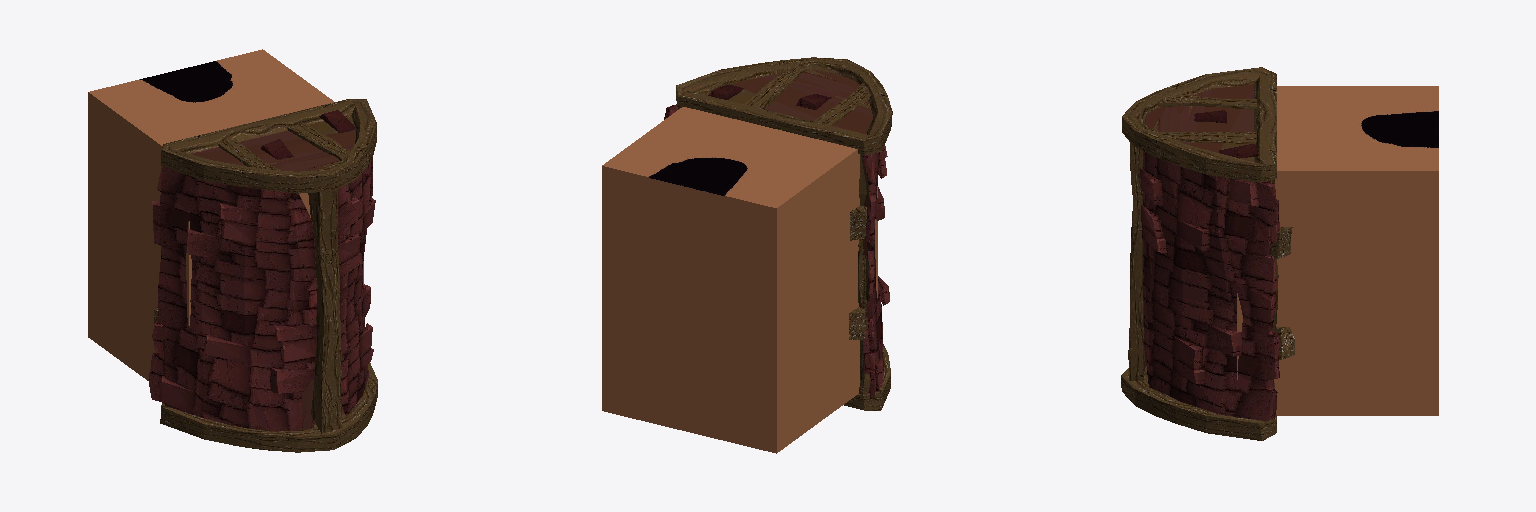
3 views of the same model, side by side, from view 1: azimuth 30°, elevation 25°; view 2: azimuth 150°, elevation 25°; view 3: azimuth 270°, elevation 25° (orthographic).
Parts seen in each view (by area): view 1: Object_3_Mesh_2, Object_0_Mesh_0, Object_1_Mesh_1; view 2: Object_0_Mesh_0, Object_1_Mesh_1, Object_3_Mesh_2; view 3: Object_0_Mesh_0, Object_3_Mesh_2, Object_1_Mesh_1.
Part boxes in pixels (x1,y1,x2,y2): Object_3_Mesh_2: (149, 157, 375, 430); Object_0_Mesh_0: (88, 49, 363, 380); Object_1_Mesh_1: (152, 99, 377, 452); Object_0_Mesh_0: (602, 107, 877, 453); Object_1_Mesh_1: (676, 57, 892, 410); Object_3_Mesh_2: (664, 104, 889, 398); Object_0_Mesh_0: (1237, 86, 1438, 415); Object_3_Mesh_2: (1140, 151, 1279, 420); Object_1_Mesh_1: (1121, 67, 1294, 440).
Bounding box in the file's own units: 0.3856 × 0.4788 × 0.4972.
2 materials, 2 textured.